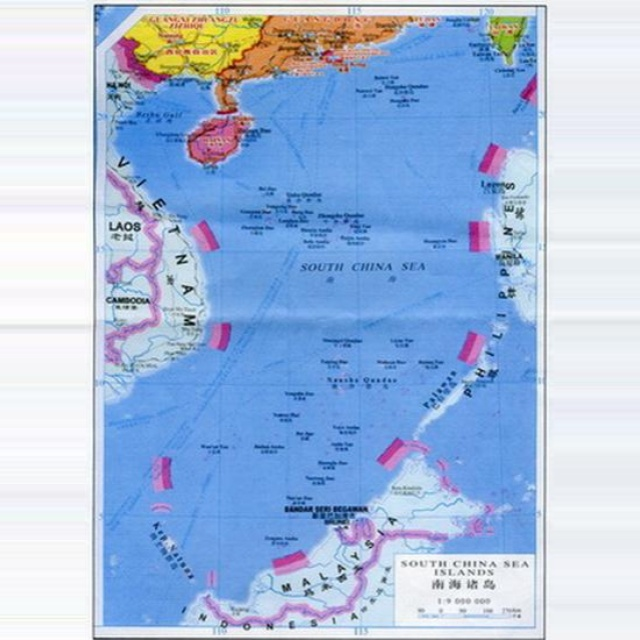Nine Dash Line: (137, 8, 637, 606)
